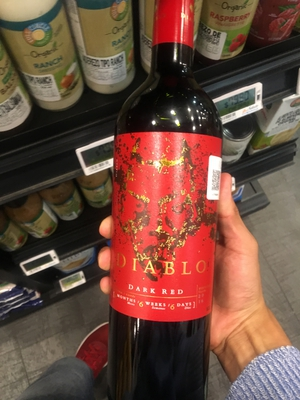diablo dark red: (105, 17, 224, 371)
